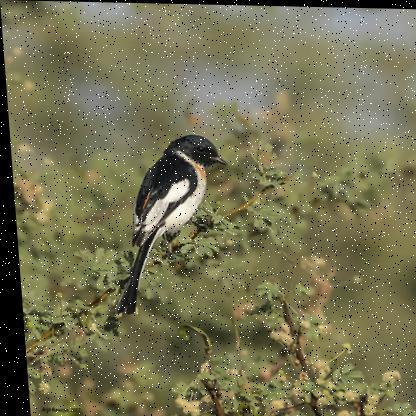Burung: (100, 131, 233, 316)
